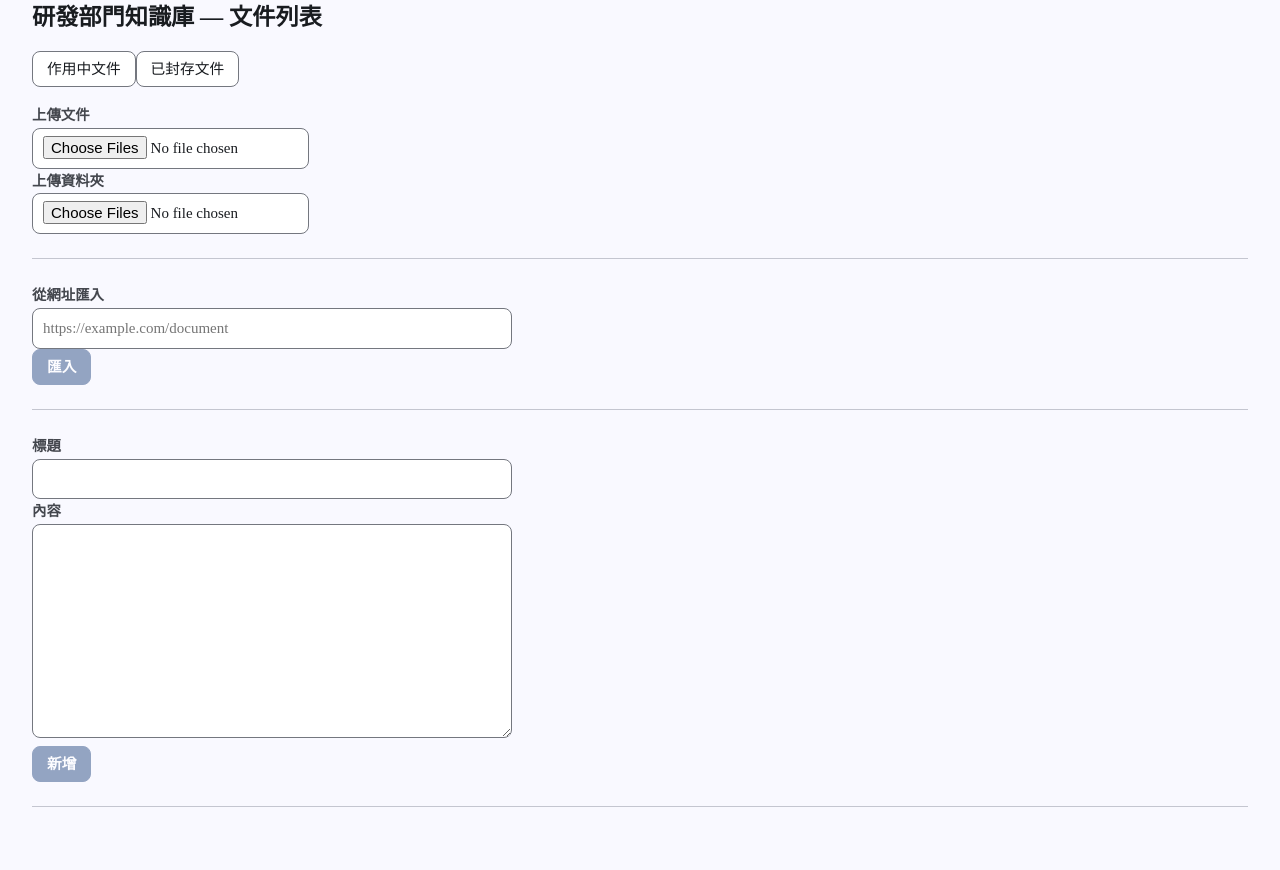
Test: KnowledgeDocumentList (E05-S010) › refreshes the document list after a successful URL import, same as after a file upload
Type "https://example.com/imported.pdf" into the field labelled "從網址匯入" at [272, 328], box [32,308,512,349]
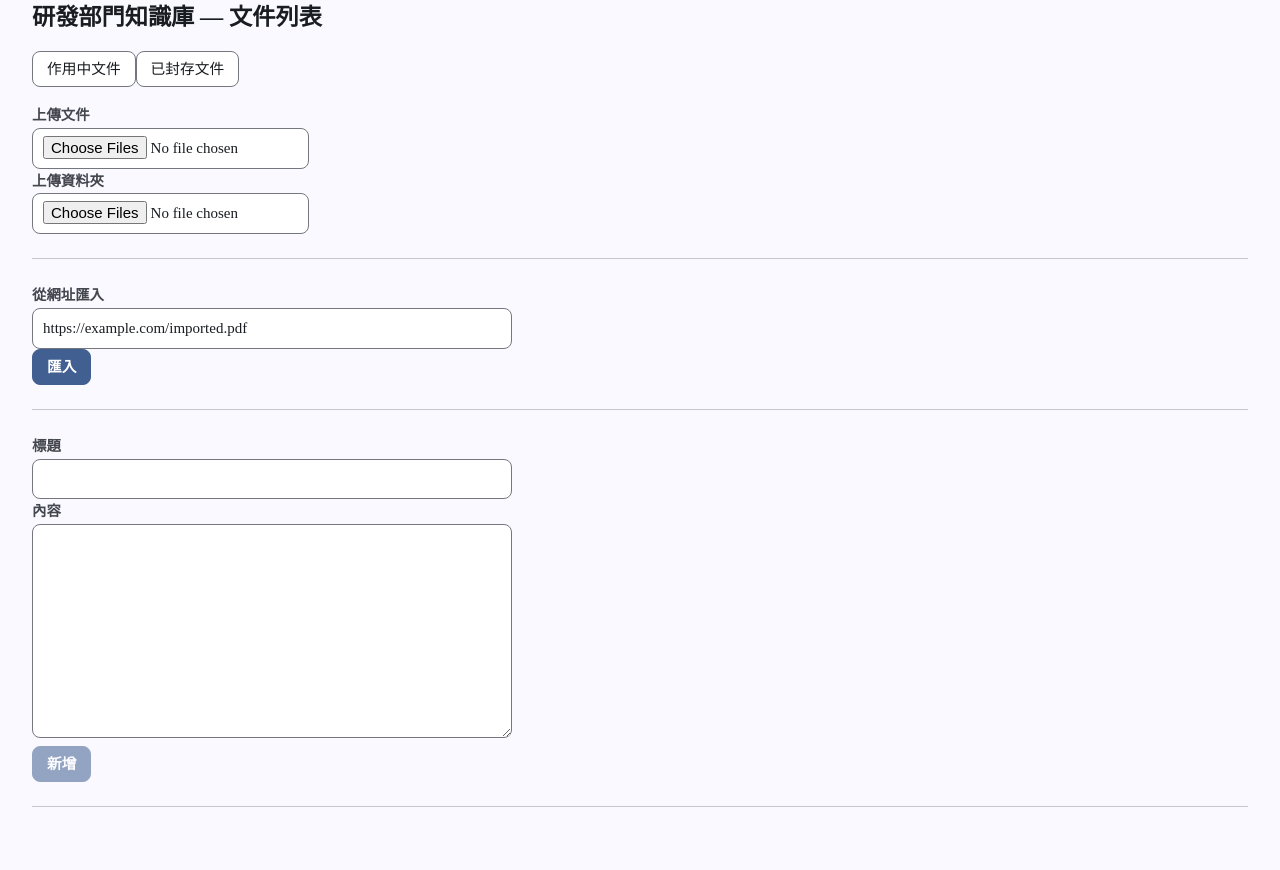
Click the button "匯入" at [62, 367], box [32,348,92,385]
(page scrolled)
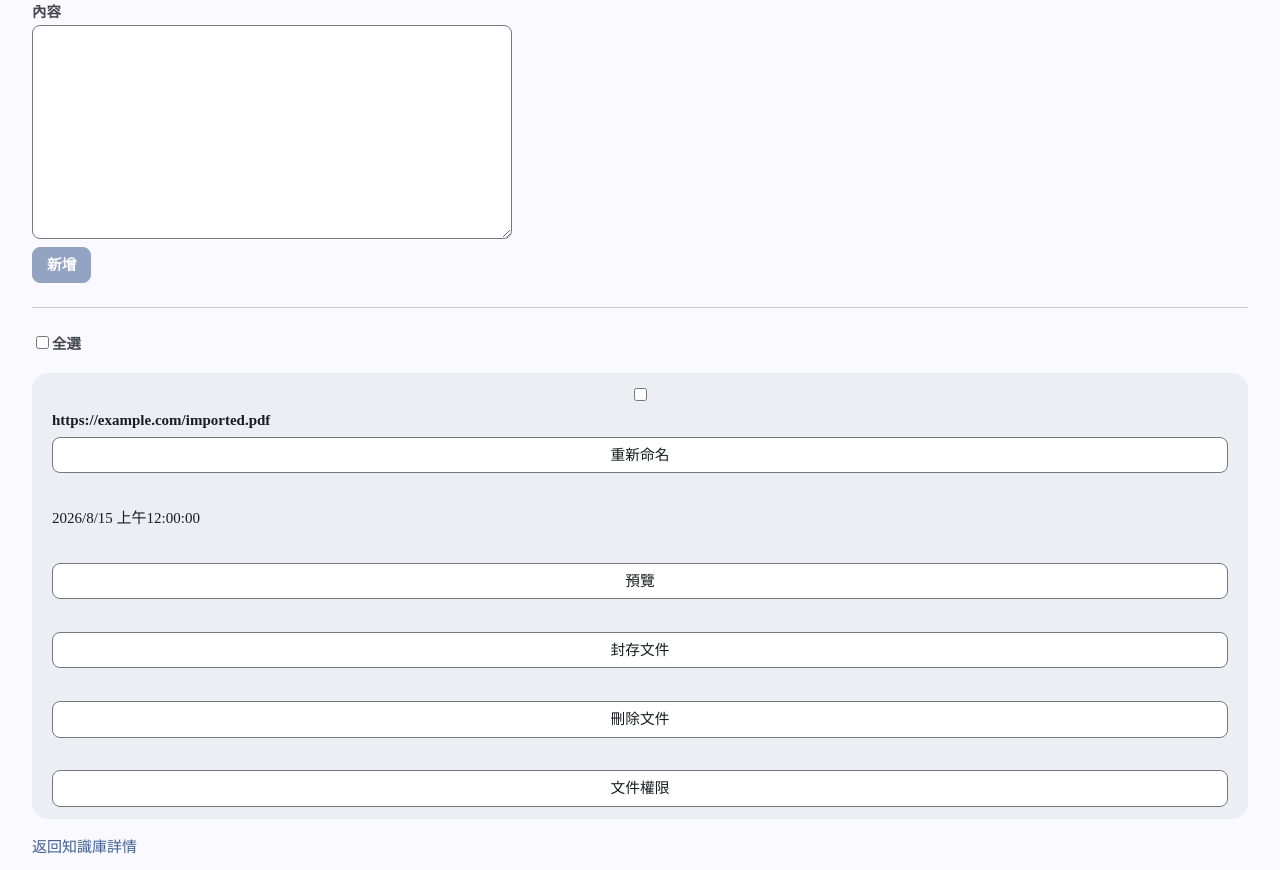
Expected: the text "https://example.com/imported.pdf" is shown, [52,412,270,428]
